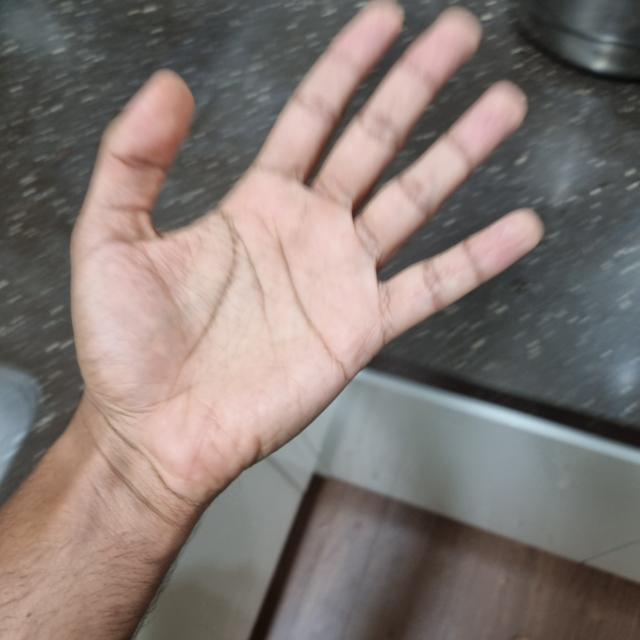Paper: (71, 1, 534, 482)
